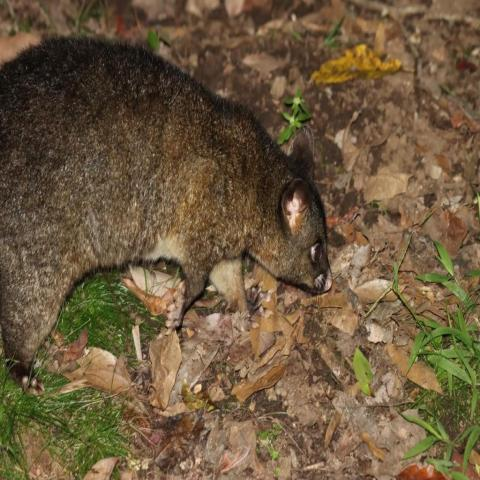small_animal: (1, 31, 335, 388)
